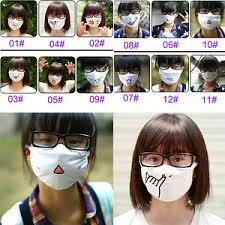OK: (33, 134, 90, 192), (147, 149, 196, 201), (157, 63, 184, 87), (201, 7, 223, 31), (84, 64, 107, 86), (122, 10, 141, 28), (121, 69, 140, 87), (8, 13, 26, 31), (10, 65, 27, 83), (50, 14, 68, 30), (201, 69, 220, 84), (48, 72, 65, 87), (85, 14, 102, 28), (164, 12, 175, 25)
